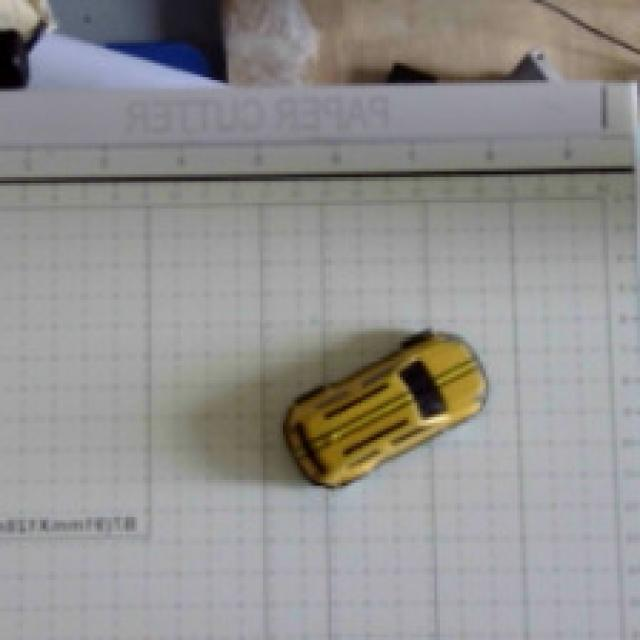Yellow Car: (216, 291, 526, 534)
